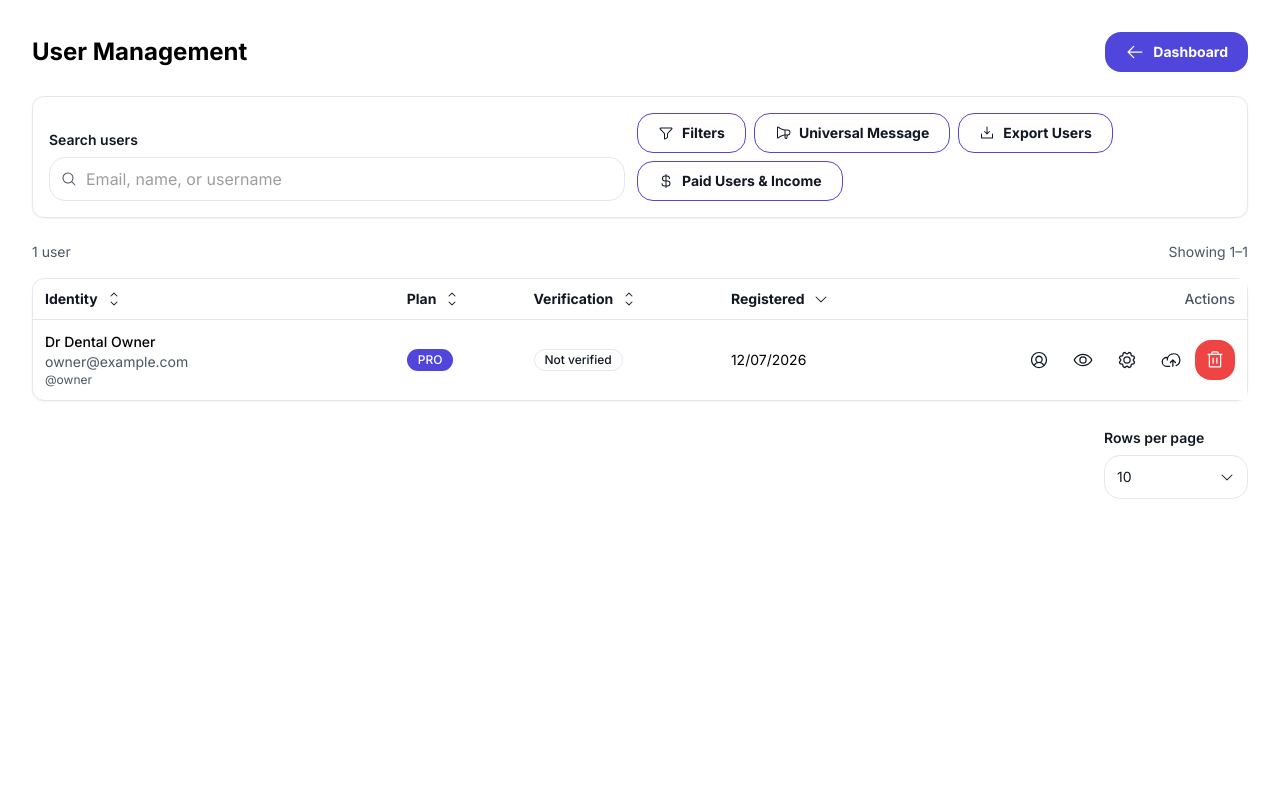
UsersManagement › uses an accessible destructive dialog and preserves it after deletion fails
Expected: the text "owner@example.com" is shown, 45,352 -> 188,370
Step 1. Click the button named "Delete owner@example.com" → (1215, 360), box 1195,340 -> 1235,380
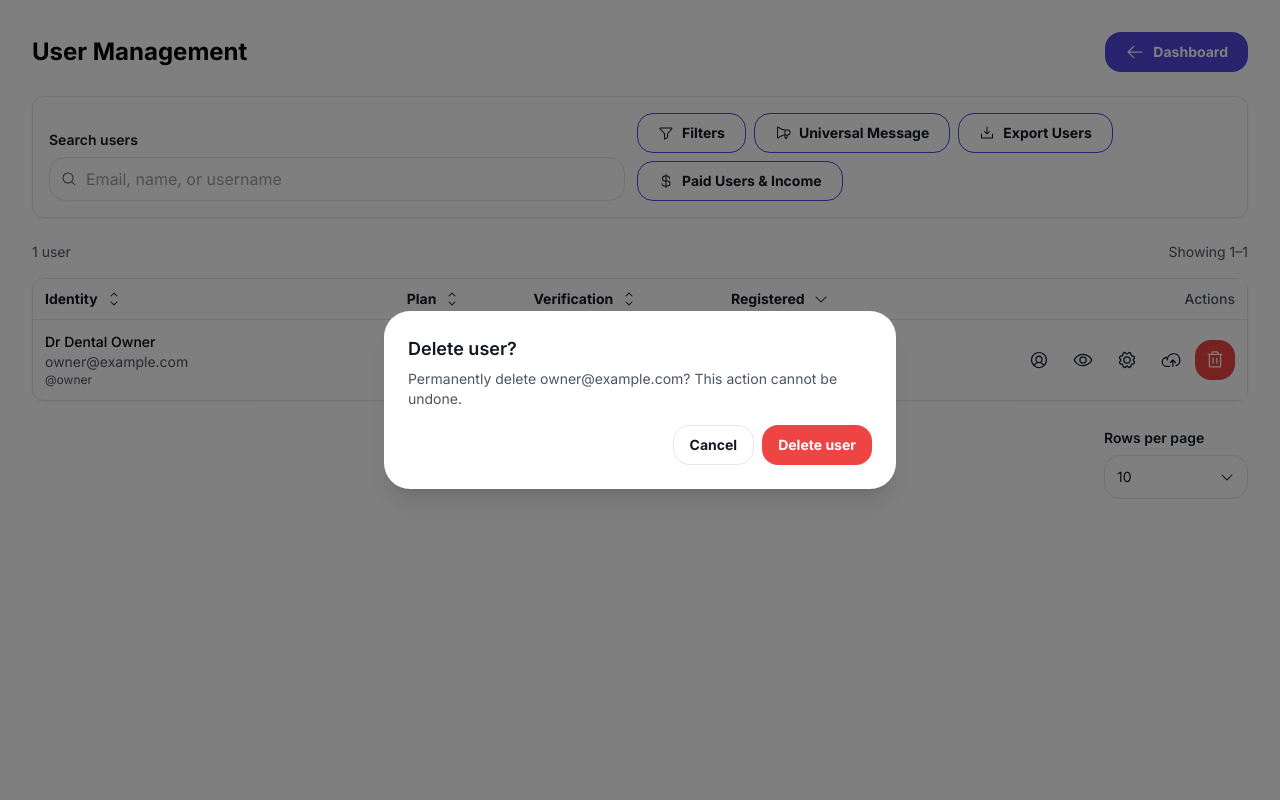
Step 2. Click the button "Delete user" → (817, 445), box 762,425 -> 872,465
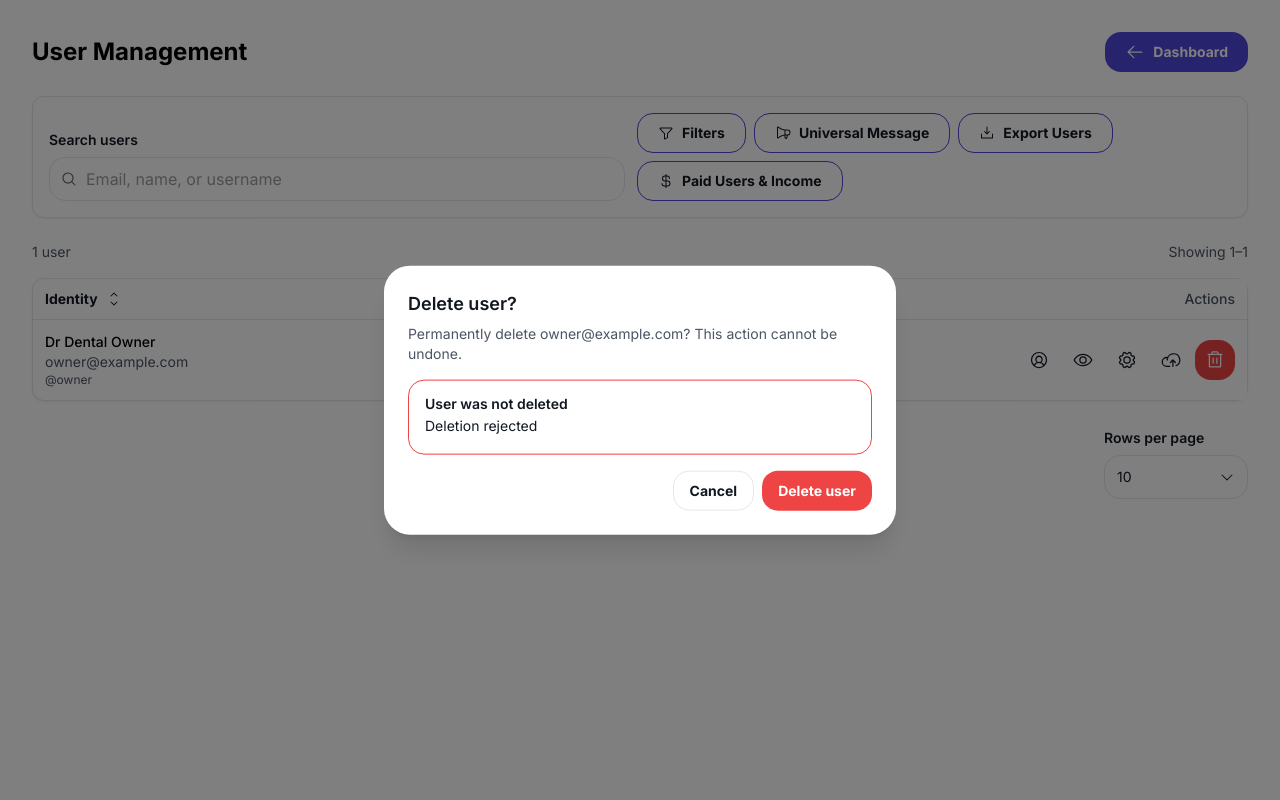
Expected: the text "owner@example.com" is shown, 45,352 -> 188,370
Expected: the dialog "Delete user?" is shown, 384,266 -> 896,534
Expected: the text "Deletion rejected" is shown, 425,417 -> 537,434
